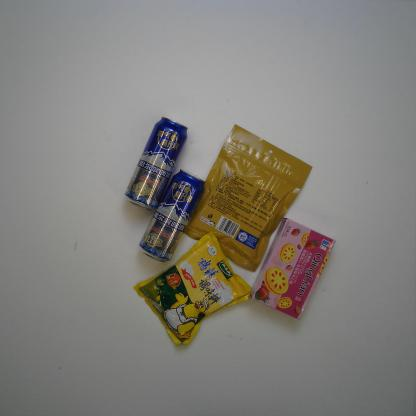Alcohol: (121, 115, 189, 212), (136, 167, 204, 264)
Dessert: (246, 216, 338, 323)
Dried Fruit: (178, 121, 312, 274)
Seasoner: (131, 229, 254, 348)
